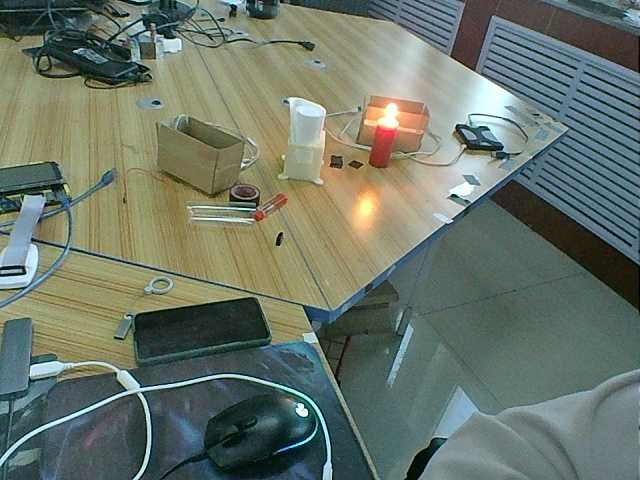candle: (367, 122, 396, 176)
fire: (379, 97, 404, 124)
